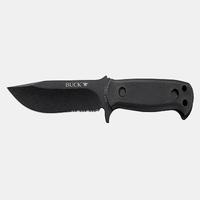knife: (1, 73, 199, 130)
